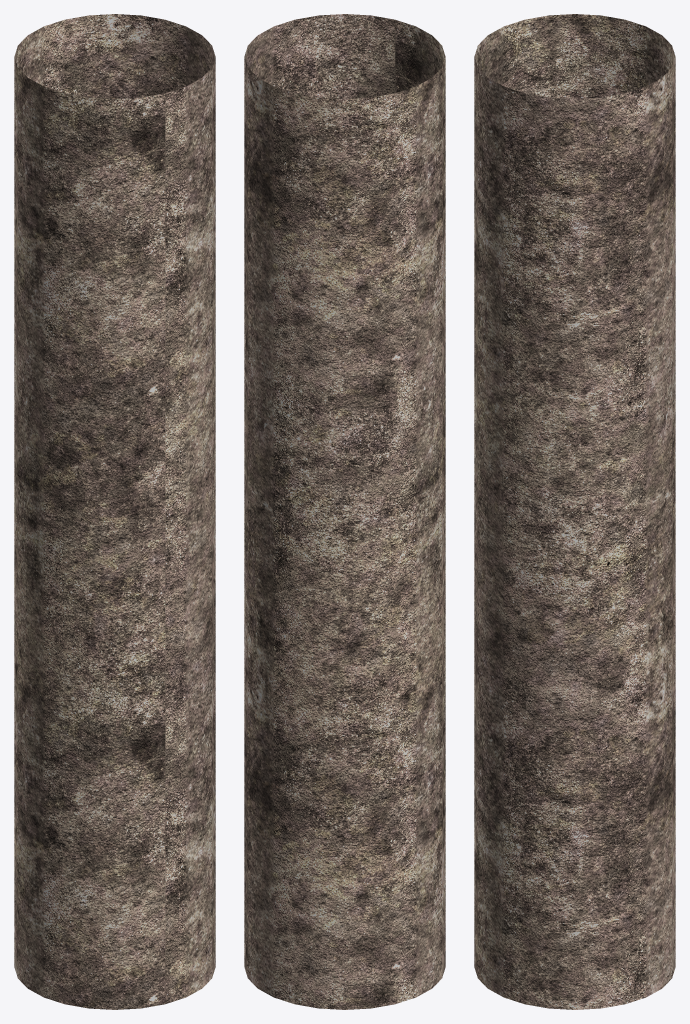
File: Rundsäule.gltf
3 views of the same model, side by side, from view 1: azimuth 30°, elevation 25°; view 2: azimuth 150°, elevation 25°; view 3: azimuth 270°, elevation 25° (orthographic).
Visible parts, largest first — view 1: Rundsäule; view 2: Rundsäule; view 3: Rundsäule.
Boxes of the visible parts, left/top/right/bottom form: Rundsäule: left=14, top=14, right=215, bottom=1009; Rundsäule: left=244, top=14, right=445, bottom=1009; Rundsäule: left=474, top=14, right=675, bottom=1009.
Bounding box in the file's own units: 2 × 10 × 2.
1 material, 1 textured.
